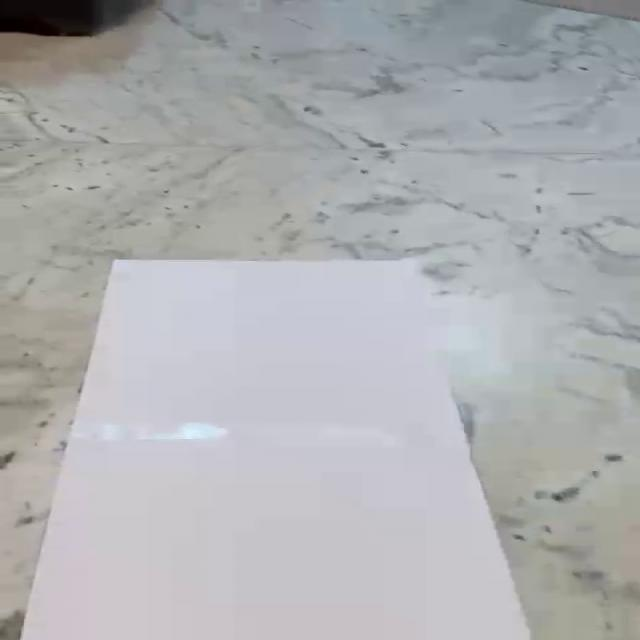road: (20, 259, 532, 640)
